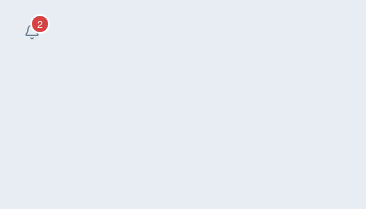
Scenario: NotificationCenter › shows an empty state when there are no notifications
Click the button named "notificações": click(32, 32) [12,12,52,52]
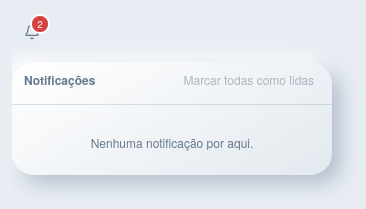
expect the text "Nenhuma notificação por aqui." is shown: met, box [91,134,253,151]
